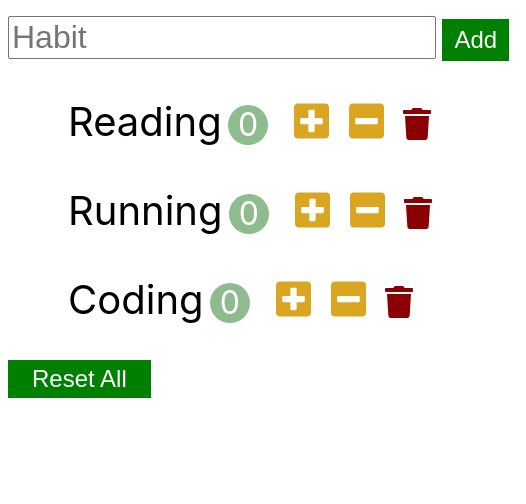
Test: Habit Tracker › adds new habit at the end
In the field with placeholder "Habit": (222, 38) [8,16,436,59], type "New Habit"
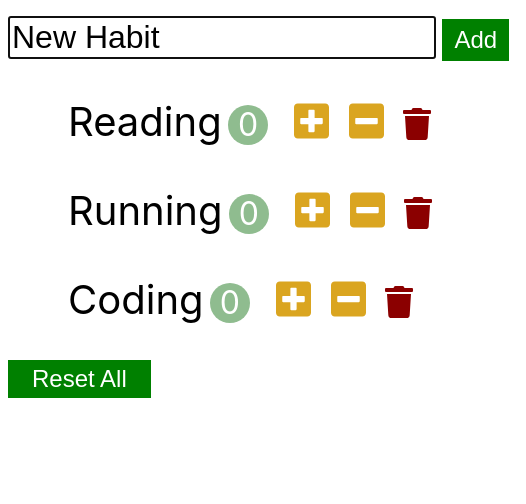
Click the button "Add": (476, 40) [442,19,509,61]
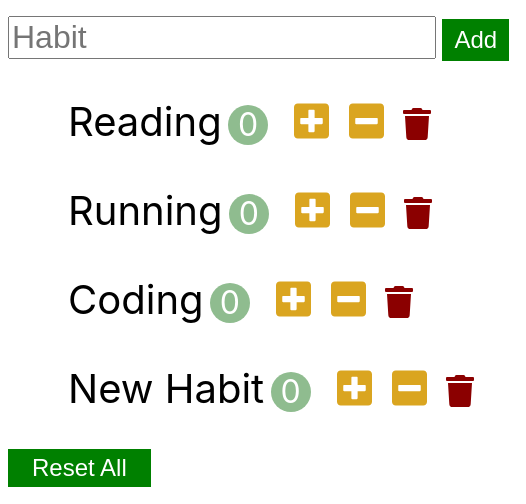
Expected: the text with test id "habit-name" reads "New Habit", [68,364,264,413]
Expected: the text with test id "habit-count" next to "New Habit" reads "0", [271,372,311,412]
